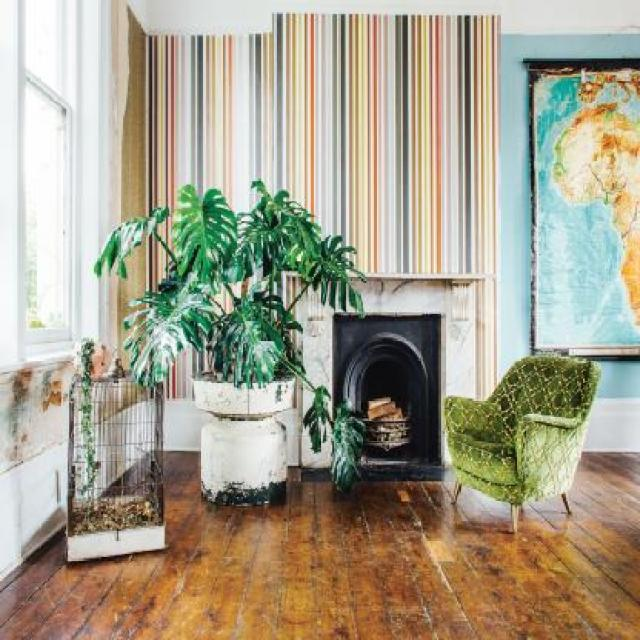Floor: (0, 450, 640, 640)
